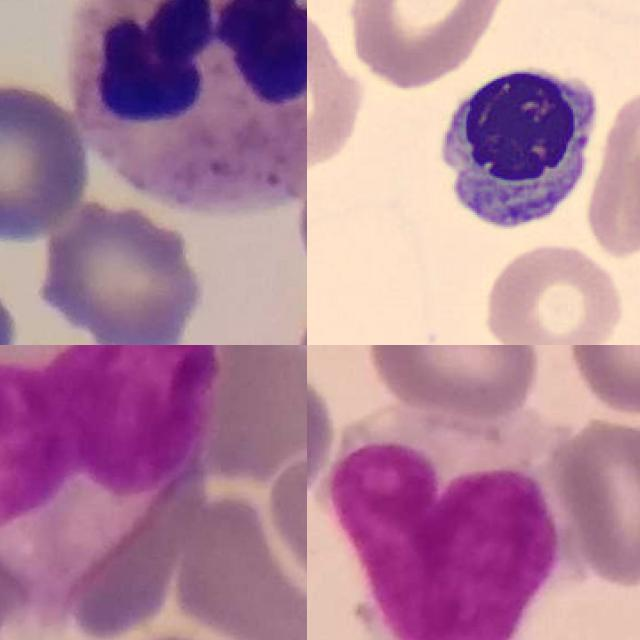Lymphocyte: (424, 56, 605, 238)
Monocyte: (0, 345, 221, 615), (330, 403, 579, 640)
Neutrophil: (63, 0, 307, 215)
RBC: (340, 0, 518, 89), (478, 239, 626, 345), (307, 0, 370, 181), (578, 88, 640, 259)
